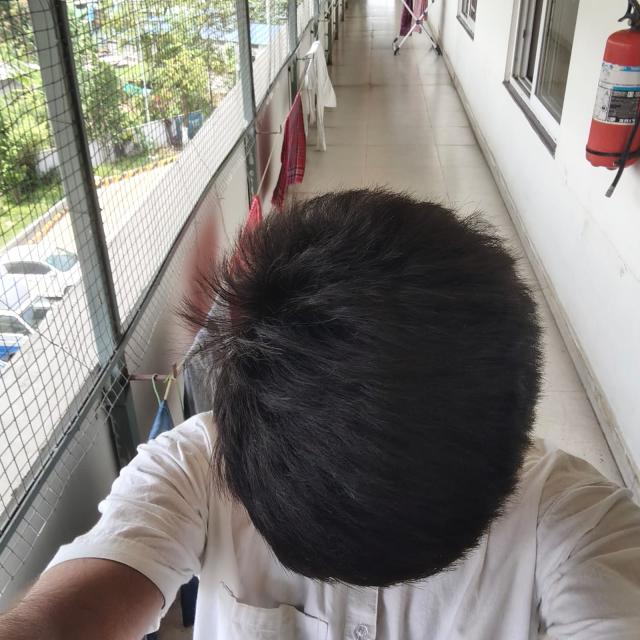no-hairnet: (0, 189, 640, 640), (98, 164, 175, 245), (38, 216, 76, 250)
